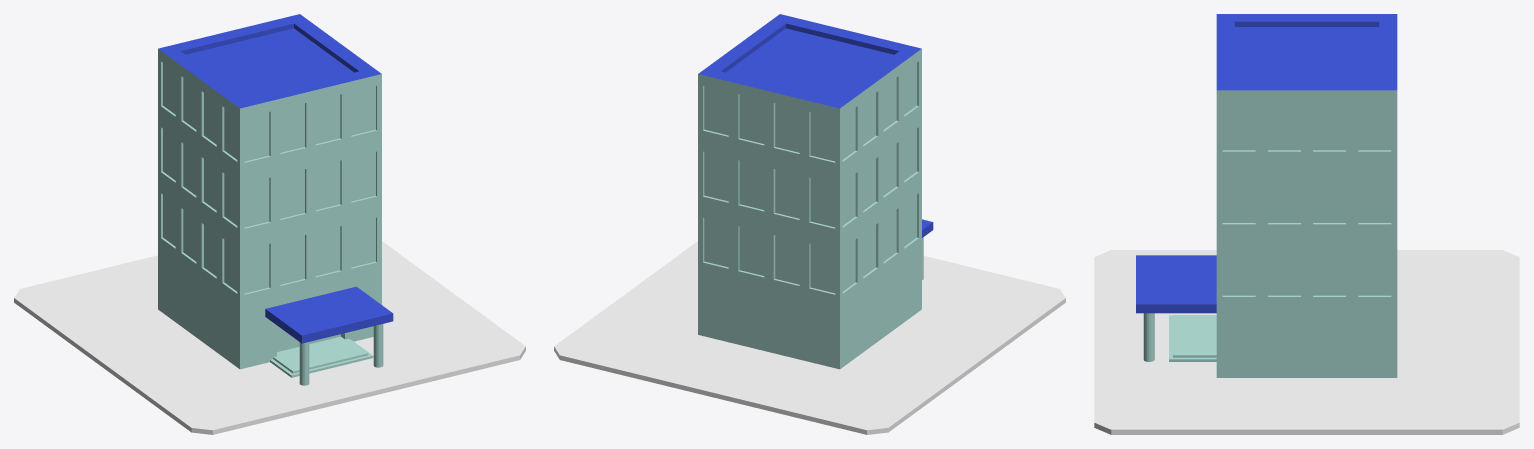
Rendered from city-0.gltf.
3 renders of one model, left to right at view 1: azimuth 30°, elevation 25°; view 2: azimuth 150°, elevation 25°; view 3: azimuth 270°, elevation 25°, orthographic. The views are drawn at different scales.
Visible parts, largest first — view 1: Cube.001, Cube, Cube.002, Cube.003; view 2: Cube.001, Cube; view 3: Cube.001, Cube, Cube.002, Cube.003, Cylinder.001.
Boxes of the visible parts, <box> form: Cube.001: <box>158,14,381,369</box>; Cube: <box>14,241,525,434</box>; Cube.002: <box>265,286,393,343</box>; Cube.003: <box>270,336,373,377</box>; Cube.001: <box>698,14,921,369</box>; Cube: <box>554,241,1065,434</box>; Cube.001: <box>1216,14,1397,377</box>; Cube: <box>1094,250,1519,434</box>; Cube.002: <box>1136,255,1216,313</box>; Cube.003: <box>1169,315,1216,361</box>; Cylinder.001: <box>1143,313,1154,361</box>.
Size of the model in its own units: 2 by 1.52 by 2.
